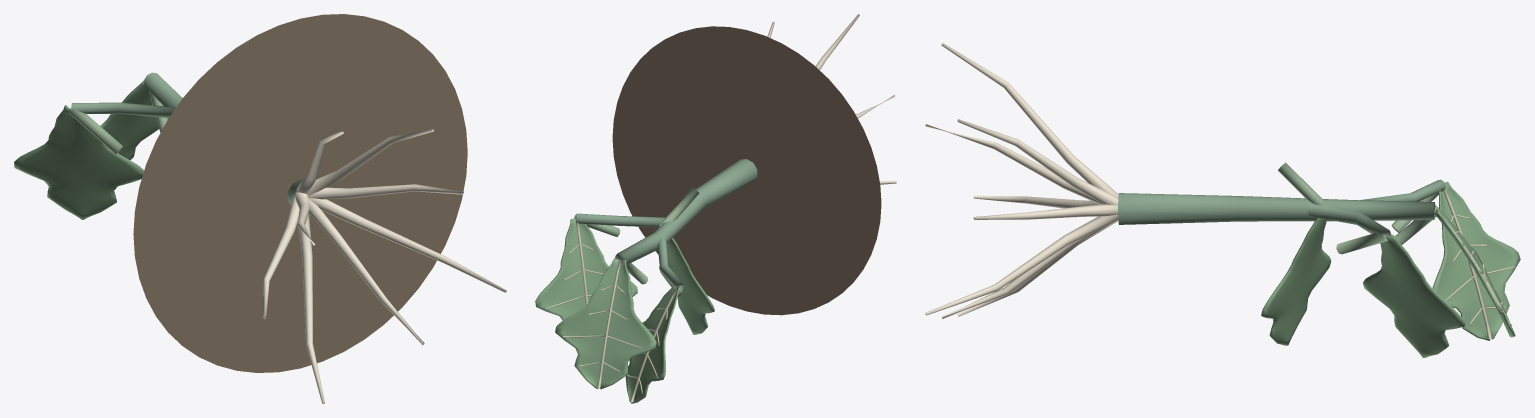
Rendered from fig.glb.
3 renders of one model, left to right at view 1: azimuth 30°, elevation 25°; view 2: azimuth 150°, elevation 25°; view 3: azimuth 270°, elevation 25°, orthographic. The views are drawn at different scales.
Visible parts, largest first — view 1: Part_Soil__soil, Part_Leaf__blade2, Part_Leaf__blade0, Part_Roots__rt7, Part_Roots__rt5, Part_Roots__rt6, Part_Roots__rt0, Part_Roots__rt1, Part_Branch__branchB, Part_Roots__rt4, Part_Stem__trunk, Part_Petiole__pet2 (+2 smaller); view 2: Part_Soil__soil, Part_Leaf__blade0, Part_Leaf__blade1, Part_Stem__trunk, Part_Leaf__blade2, Part_Leaf__blade3, Part_Branch__branchA, Part_Branch__branchB, Part_Petiole__pet3, Part_Vein__vn0mid; view 3: Part_Stem__trunk, Part_Leaf__blade2, Part_Leaf__blade1, Part_Leaf__blade3, Part_Roots__rt2, Part_Roots__rt7, Part_Roots__rt1, Part_Roots__rt0, Part_Leaf__blade0, Part_Roots__rt3, Part_Branch__branchA, Part_Roots__rt6 (+5 smaller).
Part boxes in pixels (left/top/right/bottom): Part_Soil__soil: left=133, top=14, right=467, bottom=372; Part_Leaf__blade2: left=14, top=105, right=144, bottom=219; Part_Leaf__blade0: left=100, top=80, right=168, bottom=160; Part_Roots__rt7: left=308, top=197, right=506, bottom=292; Part_Roots__rt5: left=298, top=213, right=324, bottom=403; Part_Roots__rt6: left=308, top=198, right=424, bottom=345; Part_Roots__rt0: left=307, top=184, right=463, bottom=199; Part_Roots__rt1: left=307, top=129, right=433, bottom=195; Part_Branch__branchB: left=71, top=102, right=175, bottom=117; Part_Roots__rt4: left=263, top=196, right=299, bottom=318; Part_Stem__trunk: left=144, top=72, right=303, bottom=204; Part_Petiole__pet2: left=68, top=108, right=123, bottom=154; Part_Soil__soil: left=612, top=26, right=881, bottom=315; Part_Leaf__blade0: left=555, top=258, right=656, bottom=389; Part_Leaf__blade1: left=535, top=218, right=637, bottom=320; Part_Stem__trunk: left=615, top=159, right=757, bottom=264; Part_Leaf__blade2: left=625, top=285, right=681, bottom=403; Part_Leaf__blade3: left=659, top=238, right=714, bottom=334; Part_Branch__branchA: left=576, top=213, right=665, bottom=227; Part_Branch__branchB: left=657, top=236, right=683, bottom=287; Part_Petiole__pet3: left=659, top=187, right=699, bottom=226; Part_Vein__vn0mid: left=598, top=259, right=621, bottom=388; Part_Stem__trunk: left=1118, top=193, right=1435, bottom=224; Part_Leaf__blade2: left=1432, top=181, right=1520, bottom=340; Part_Leaf__blade1: left=1363, top=234, right=1465, bottom=357; Part_Leaf__blade3: left=1261, top=217, right=1331, bottom=345; Part_Roots__rt2: left=941, top=43, right=1118, bottom=197; Part_Roots__rt7: left=925, top=214, right=1118, bottom=315; Part_Roots__rt1: left=957, top=119, right=1118, bottom=205; Part_Roots__rt0: left=973, top=204, right=1118, bottom=219; Part_Leaf__blade0: left=1434, top=205, right=1515, bottom=337; Part_Roots__rt3: left=925, top=124, right=1102, bottom=204; Part_Branch__branchA: left=1307, top=204, right=1391, bottom=237; Part_Roots__rt6: left=941, top=220, right=1118, bottom=318.
Bounding box in the file's own units: 1.2 × 1.2 × 1.83.
